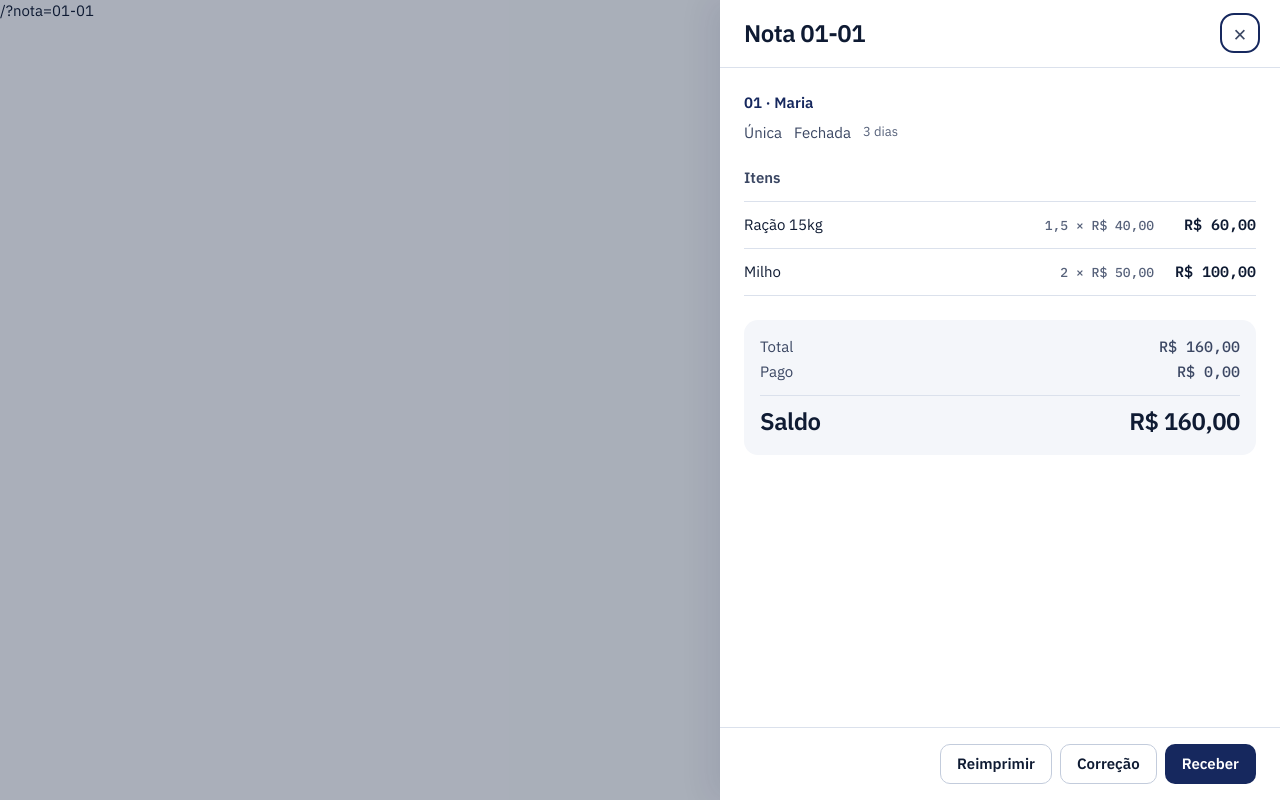
Receber › "40,00" envia "40.00" com a forma escolhida; em sucesso grava a nota, fecha o formulário e abre o recibo
Click the button "Receber" at (1210, 764), box [1165,744,1256,784]
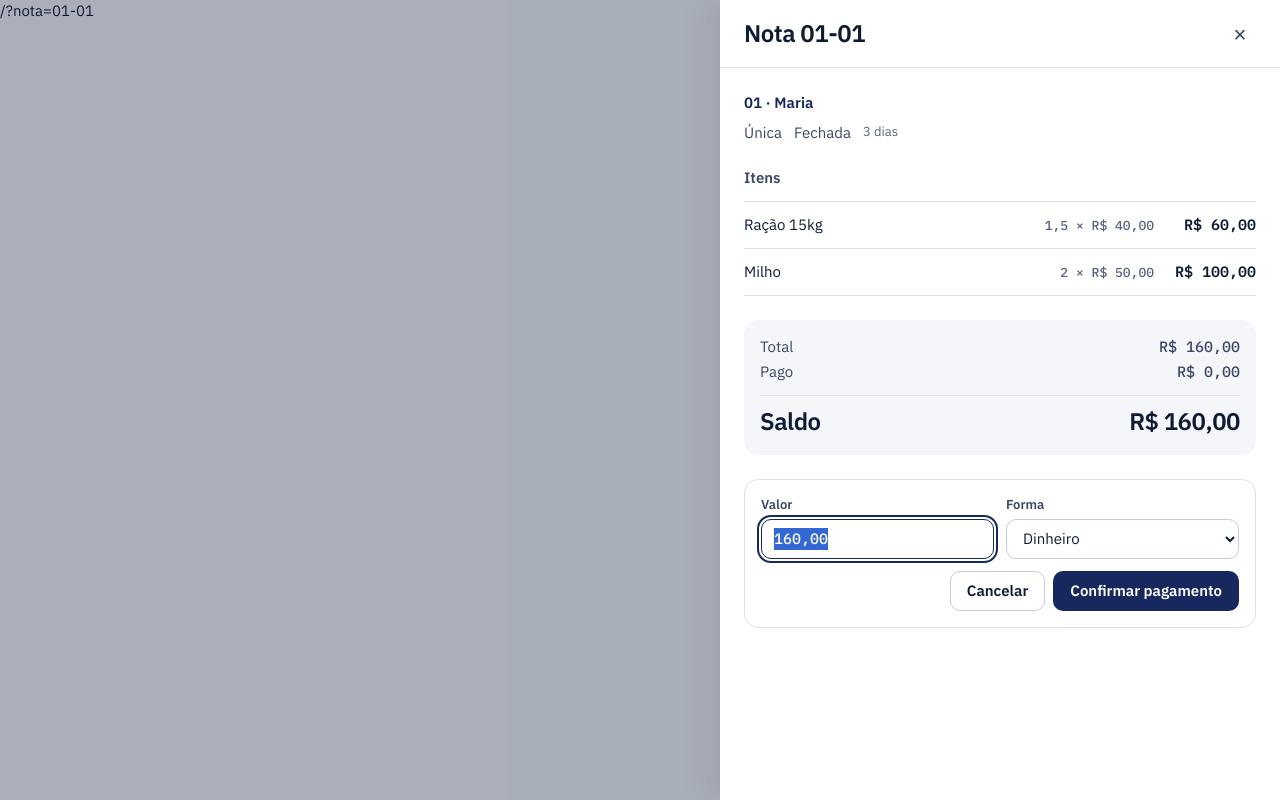
Replace the text in the field labelled "Valor" with "40,00" at (878, 539), box [761,519,994,559]
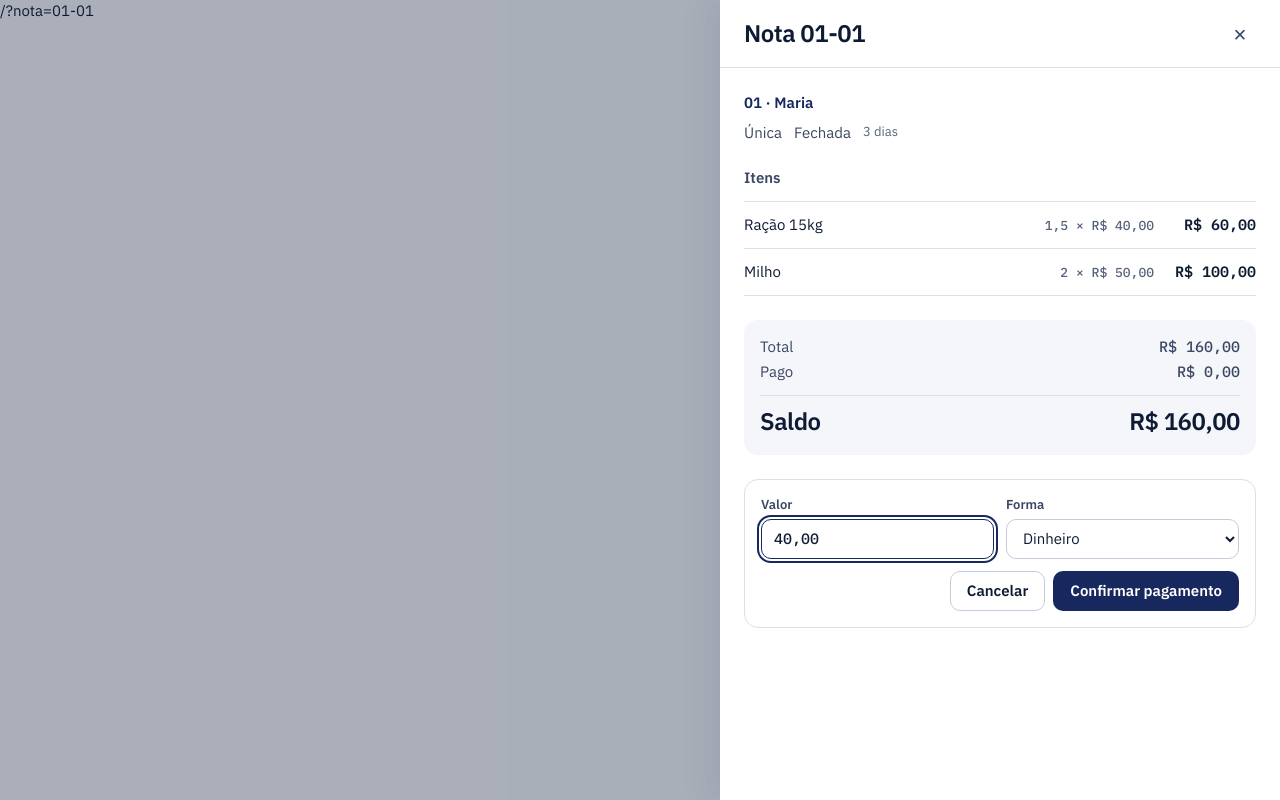
Select "Pix" in the dropdown labelled "Forma" at (1122, 539), box [1006,519,1239,559]
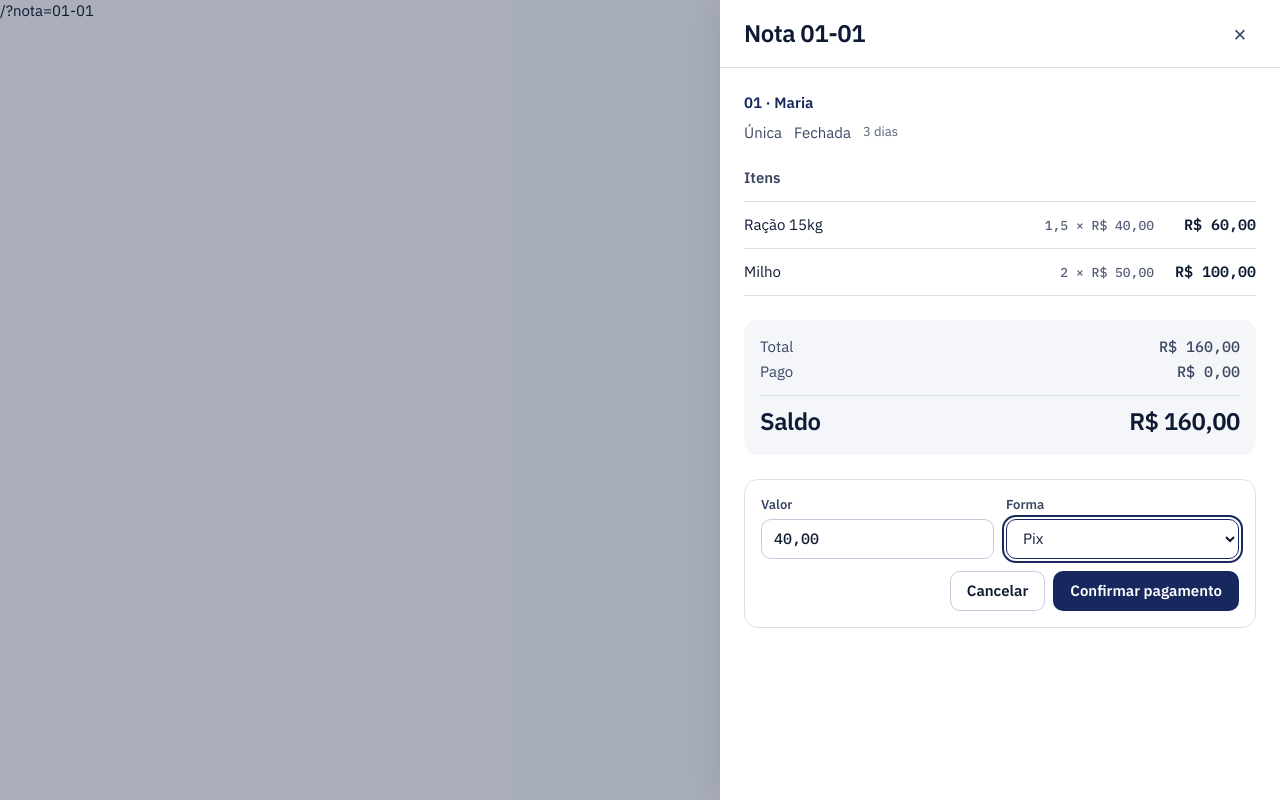
Click the button "Confirmar pagamento" at (1146, 591), box [1053,571,1239,611]
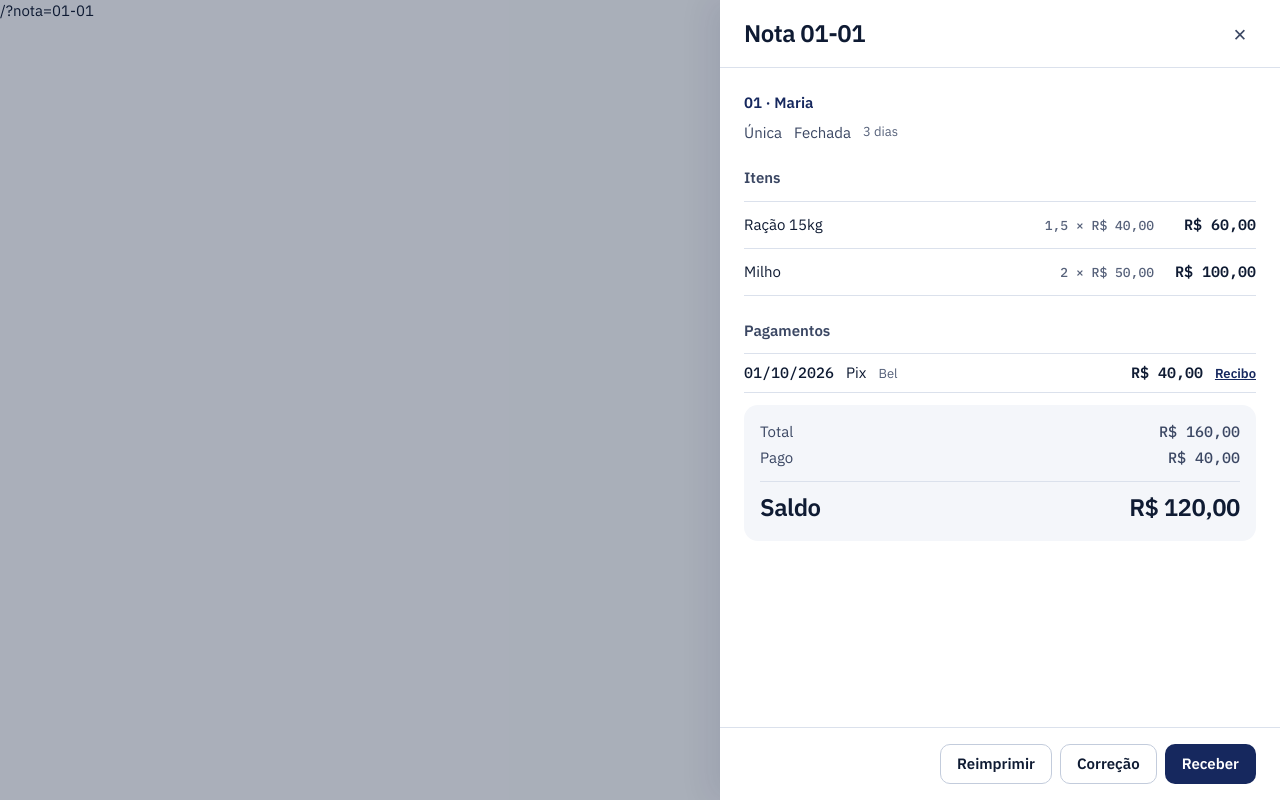
Result: the text "Saldo" shows "R$ 120,00" at [760,481,1240,525]
Result: the button "Receber" is enabled at [1165,744,1256,784]
